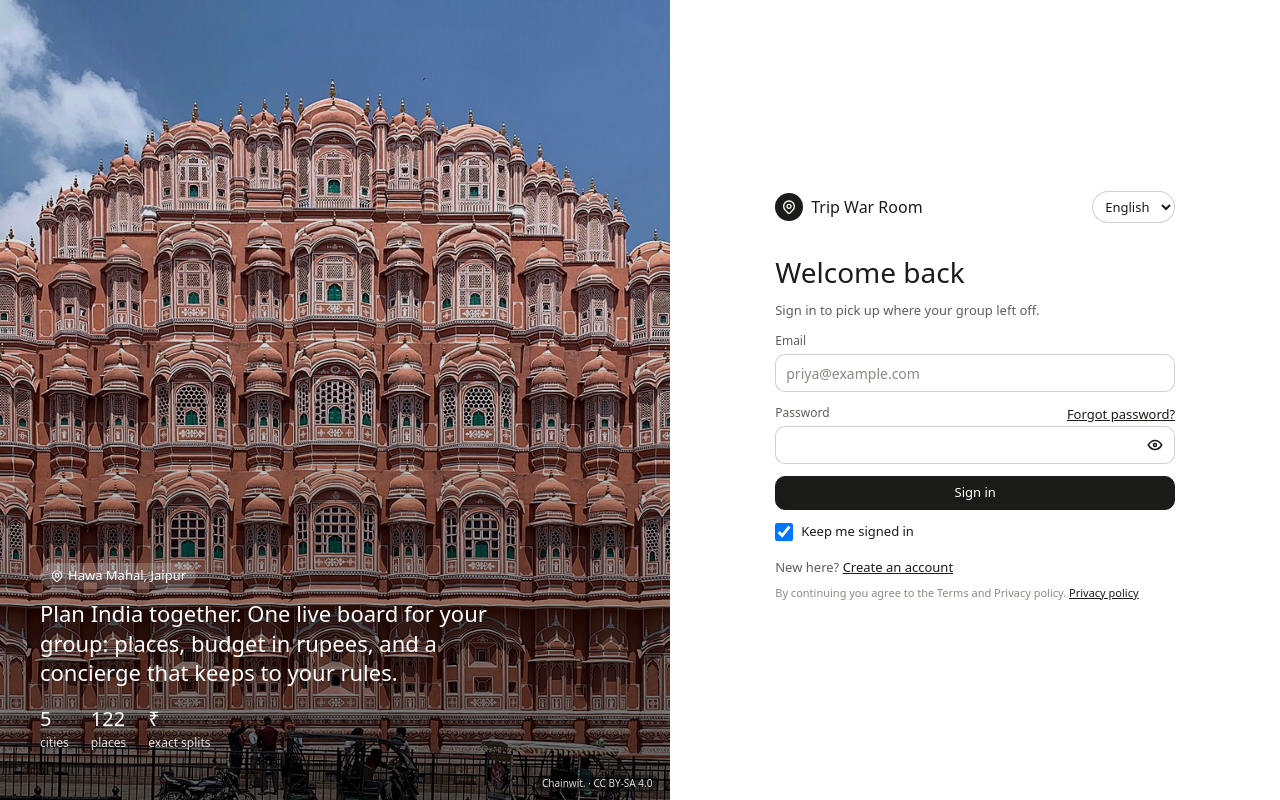
Test: sign in › switching language translates the page
Select "हिन्दी" in the dropdown named "Language": (1134, 206) [1092,190,1175,222]
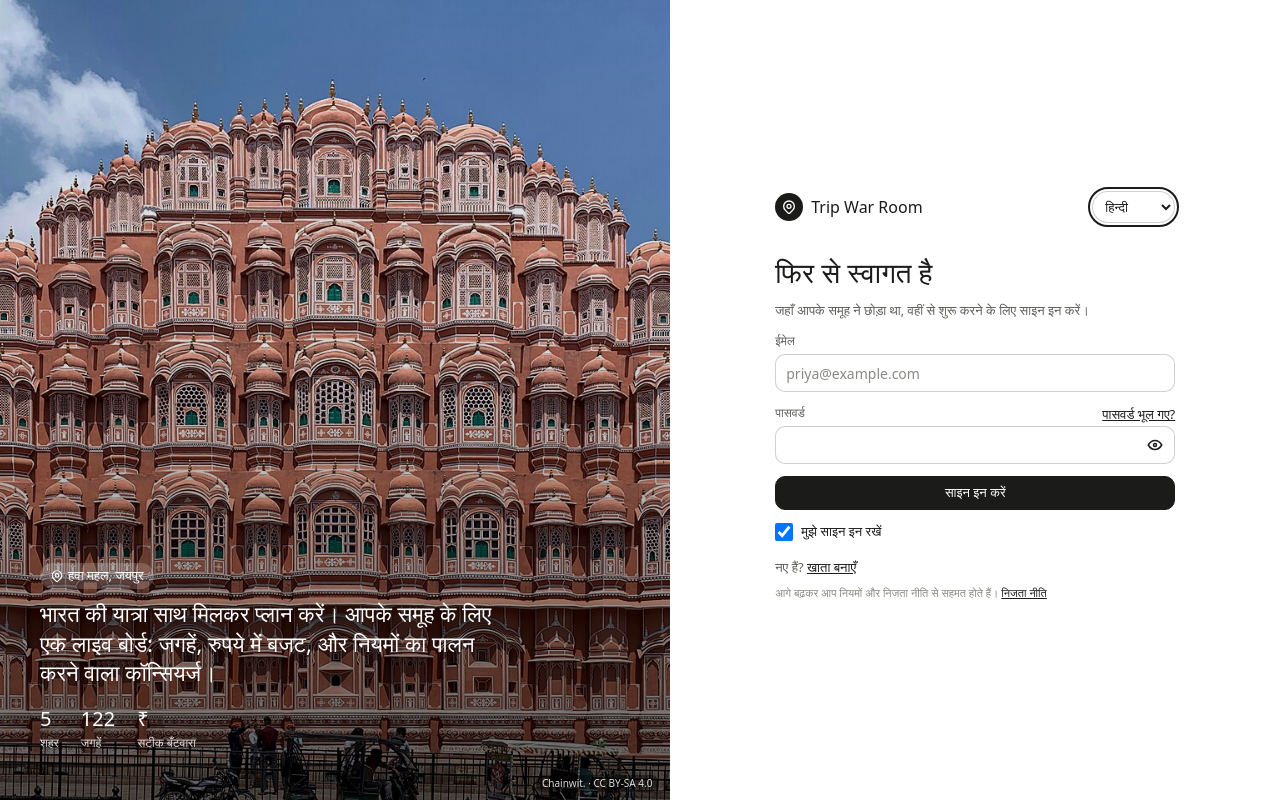
Expected: the heading "फिर से स्वागत है" is shown, [775,252,932,290]
